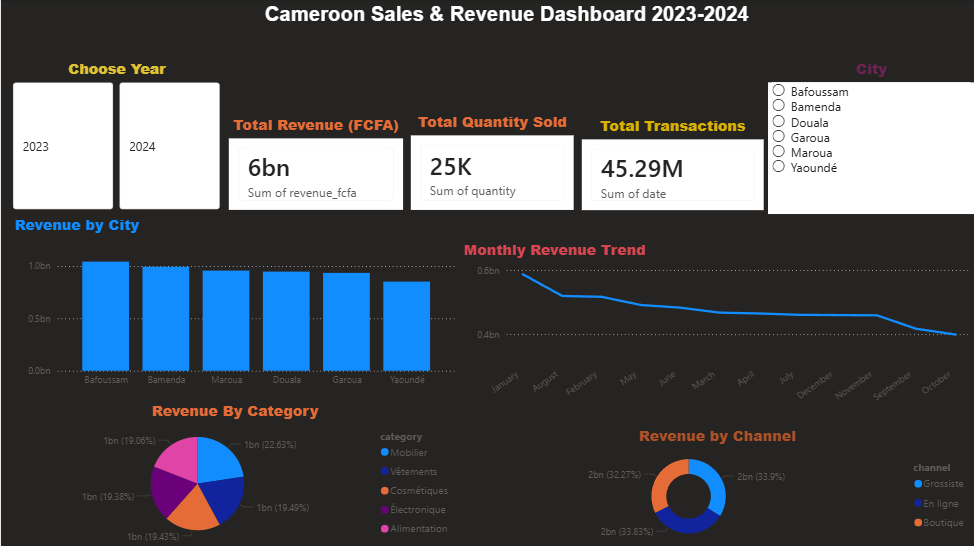

The dashboard page shown, as its layout file describes it:
{"tool":"powerbi","page":{"name":"Page 1","canvas":[1280,720],"ordinal":0},"visuals":[{"type":"cardVisual","title":"Total Revenue (FCFA)","fields":{"Data":["Sum(Sheet1.revenue_fcfa)"]},"box":[294.3,151.1,239.1,131.4],"z":0},{"type":"cardVisual","title":"Total Quantity Sold","fields":{"Data":["Sum(Sheet1.quantity)"]},"box":[533.4,147.2,224.7,135.3],"z":1000},{"type":"cardVisual","title":"Total Transactions","fields":{"Data":["Sum(Sheet1.date)"]},"box":[758.1,152.4,249.6,130.1],"z":2000},{"type":"lineClusteredColumnComboChart","title":"Revenue by City","fields":{"Category":["Sheet1.city"],"Y":["Sum(Sheet1.revenue_fcfa)"]},"box":[13.8,282.2,589.1,245],"z":3000},{"type":"lineChart","title":"Monthly Revenue Trend ","fields":{"Y":["Sum(Sheet1.revenue_fcfa)"],"Category":["Sheet1.month_name"]},"box":[603.1,315.3,676.6,244.4],"z":4000},{"type":"pieChart","title":"Revenue By Category","fields":{"Category":["Sheet1.category"],"Y":["Sum(Sheet1.revenue_fcfa)"]},"box":[13.8,527.1,589.1,192.7],"z":5000},{"type":"donutChart","title":"Revenue by Channel","fields":{"Category":["Sheet1.channel"],"Y":["Sum(Sheet1.revenue_fcfa)"]},"box":[603.1,559.7,676.6,160.3],"z":6000},{"type":"textbox","box":[189.9,0,948.3,44],"z":6001},{"type":"listSlicer","title":"City","fields":{"Values":["Sheet1.city"]},"box":[1007.7,77.5,272,205],"z":6002},{"type":"advancedSlicerVisual","title":"Choose Year","fields":{"Values":["Sheet1.year"]},"box":[10.5,77.5,283.8,205],"z":6003}]}

Visuals, with their boxes in screenshot pixels (x1, y1, x2, y2), scaled from the page's 1280x720 canvas onto the 974x546 screenshot:
"Total Revenue (FCFA)" cardVisual: region(224, 115, 406, 214)
"Total Quantity Sold" cardVisual: region(406, 112, 577, 214)
"Total Transactions" cardVisual: region(577, 116, 767, 214)
"Revenue by City" lineClusteredColumnComboChart: region(11, 214, 459, 400)
"Monthly Revenue Trend " lineChart: region(459, 239, 973, 424)
"Revenue By Category" pieChart: region(11, 400, 459, 545)
"Revenue by Channel" donutChart: region(459, 424, 973, 545)
textbox: region(145, 0, 866, 33)
"City" listSlicer: region(767, 59, 973, 214)
"Choose Year" advancedSlicerVisual: region(8, 59, 224, 214)
